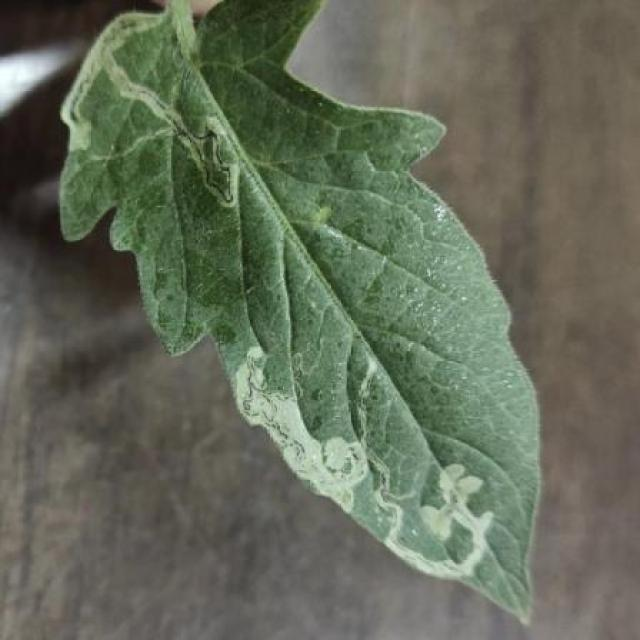Leaf Miner: (56, 0, 543, 629)
